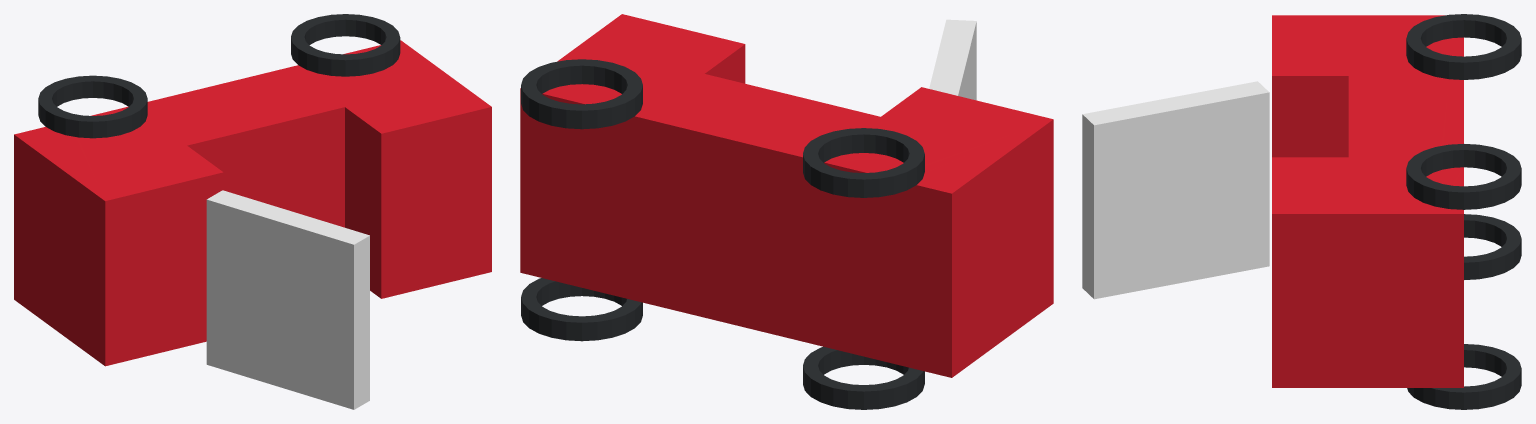
Rendered from tinker.obj.
3 renders of one model, left to right at view 1: azimuth 30°, elevation 25°; view 2: azimuth 150°, elevation 25°; view 3: azimuth 270°, elevation 25°, orthographic. The views are drawn at different scales.
Parts seen in each view (by area): view 1: group_0_15277357, group_0_16448250, group_0_2829873; view 2: group_0_15277357, group_0_2829873, group_0_16448250; view 3: group_0_15277357, group_0_16448250, group_0_2829873.
Part boxes in pixels (x1,y1,x2,y2): group_0_15277357: (14,40,491,366); group_0_16448250: (206,190,369,409); group_0_2829873: (38,14,400,138); group_0_15277357: (520,14,1053,377); group_0_2829873: (521,59,924,409); group_0_16448250: (929,19,976,100); group_0_15277357: (1272,15,1463,387); group_0_16448250: (1082,81,1269,299); group_0_2829873: (1406,14,1521,409).
Size of the model in its own units: 49 by 25 by 45.75.
